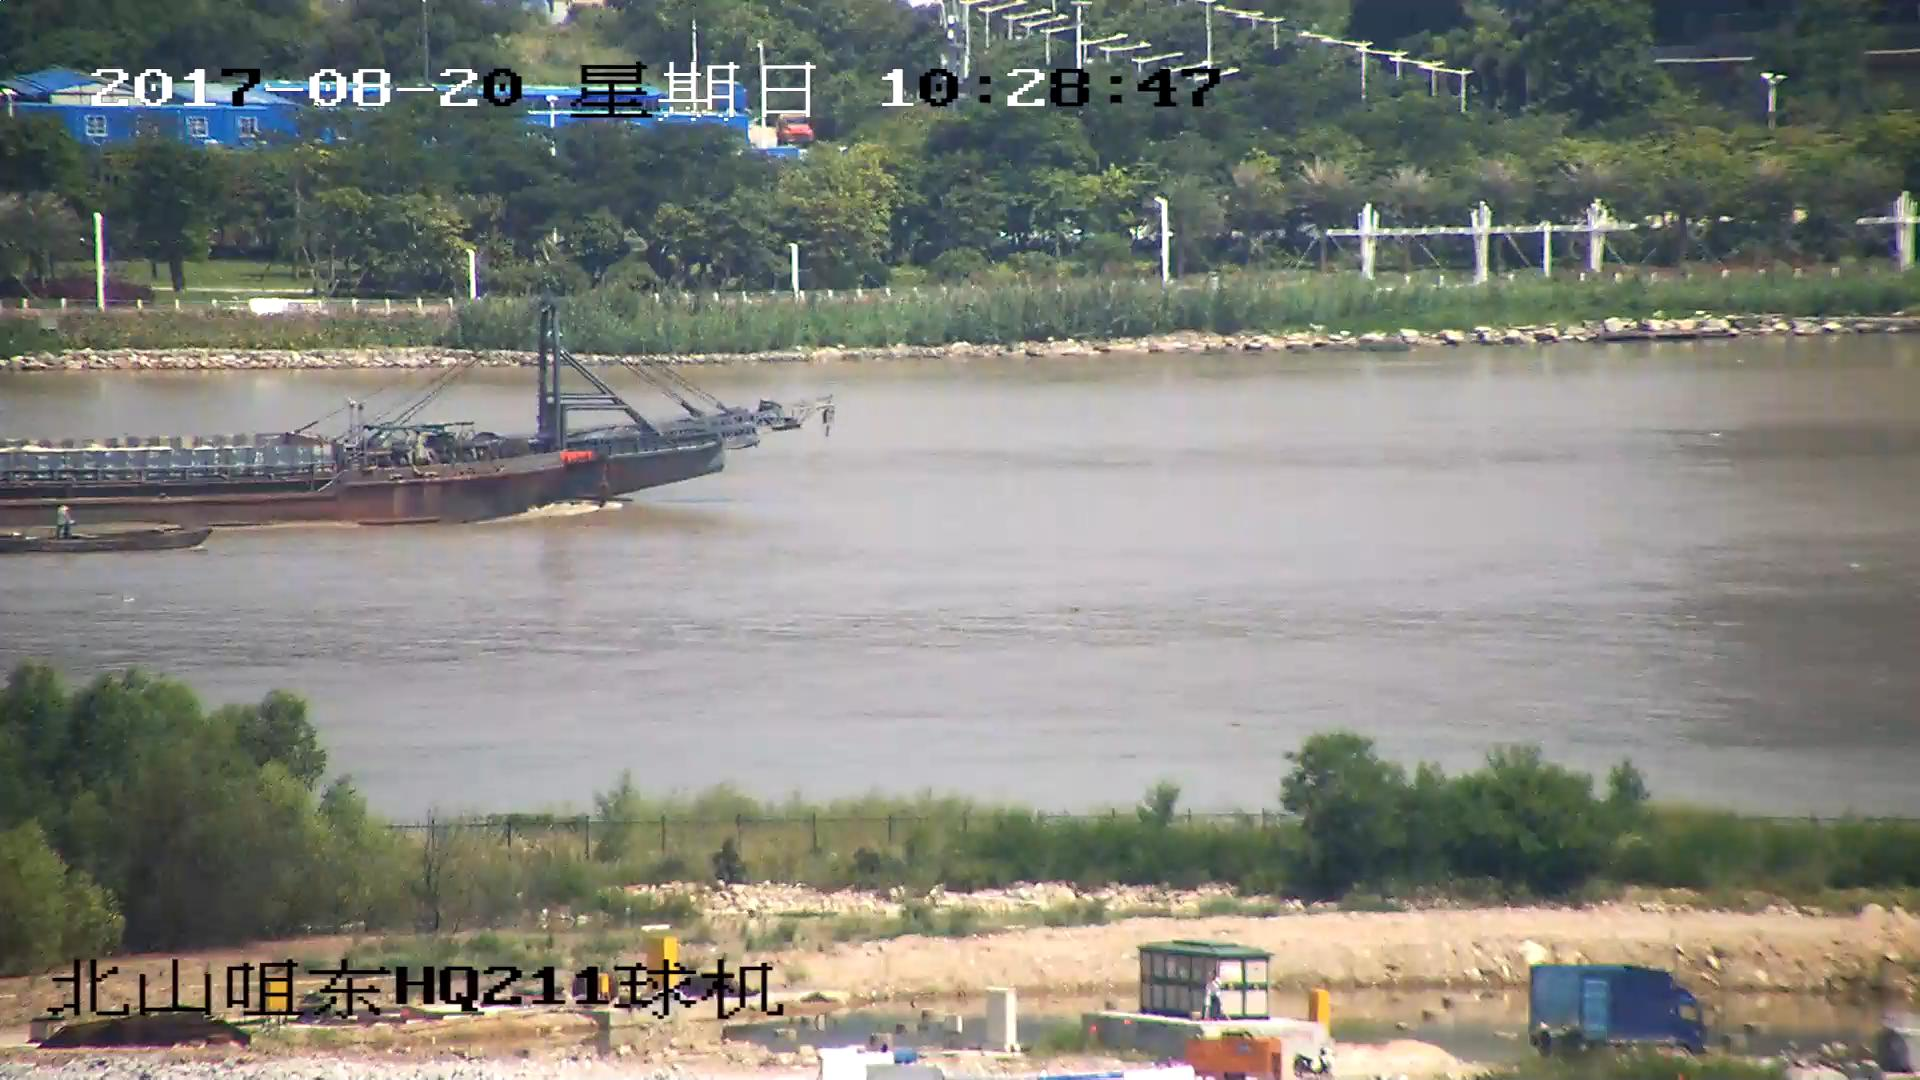fishing boat: (1, 508, 214, 559)
ore carrier: (1, 291, 835, 524)
